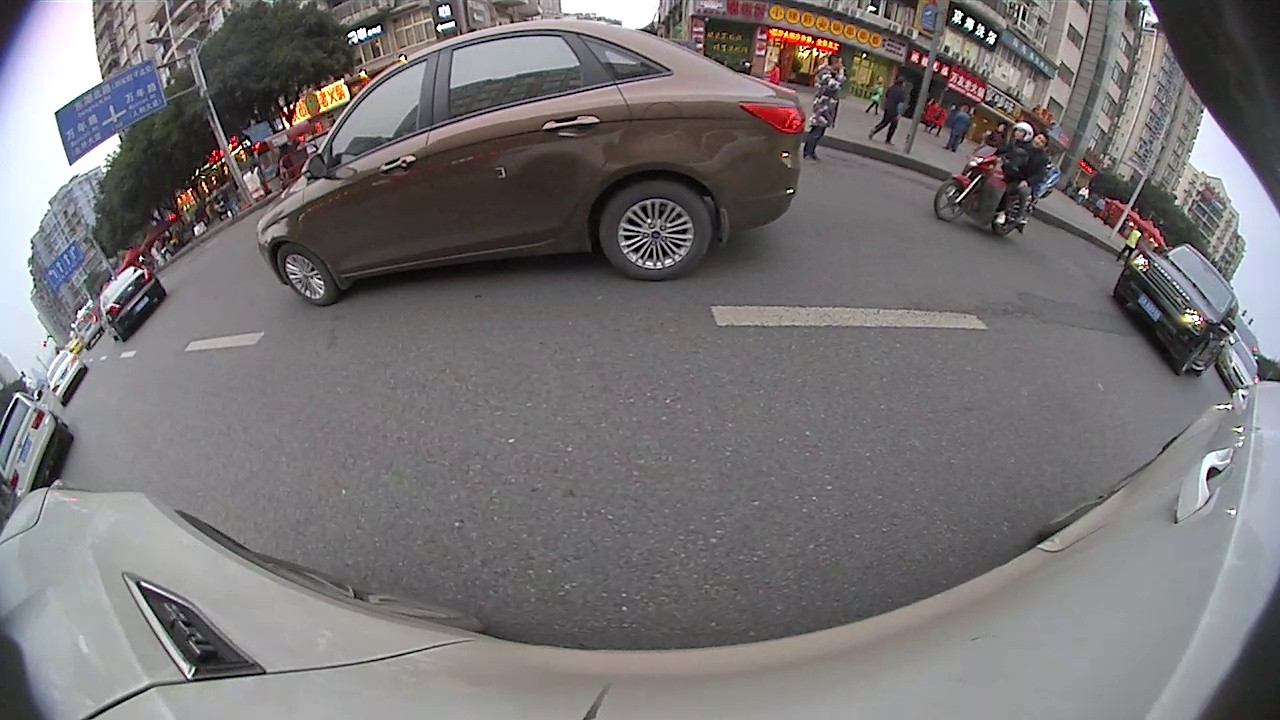car: (252, 15, 807, 309), (1110, 239, 1240, 380), (4, 387, 79, 505), (95, 260, 170, 345), (38, 345, 91, 408), (1215, 338, 1266, 395)
front: (275, 239, 342, 307), (930, 175, 974, 222)
person: (806, 46, 847, 162)
rear: (593, 176, 715, 284)
rider: (932, 120, 1064, 243)
